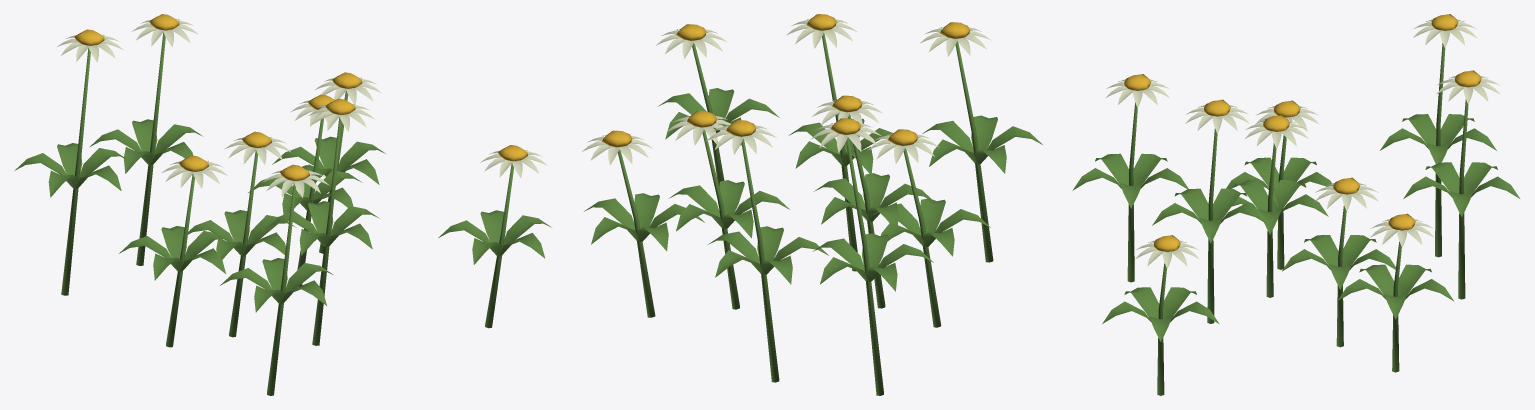
Rendered from sc_oxeye.glb.
3 views of the same model, side by side, from view 1: azimuth 30°, elevation 25°; view 2: azimuth 150°, elevation 25°; view 3: azimuth 270°, elevation 25° (orthographic). The views are drawn at different scales.
Visible parts, largest first — view 1: sc_oxeye; view 2: sc_oxeye; view 3: sc_oxeye.
Boxes of the visible parts, box(x1,y1,x2,y2) form: sc_oxeye: box(14, 14, 551, 395); sc_oxeye: box(582, 14, 1042, 395); sc_oxeye: box(1072, 14, 1519, 395).
Bounding box in the file's own units: 1.07 × 0.6769 × 1.09.
